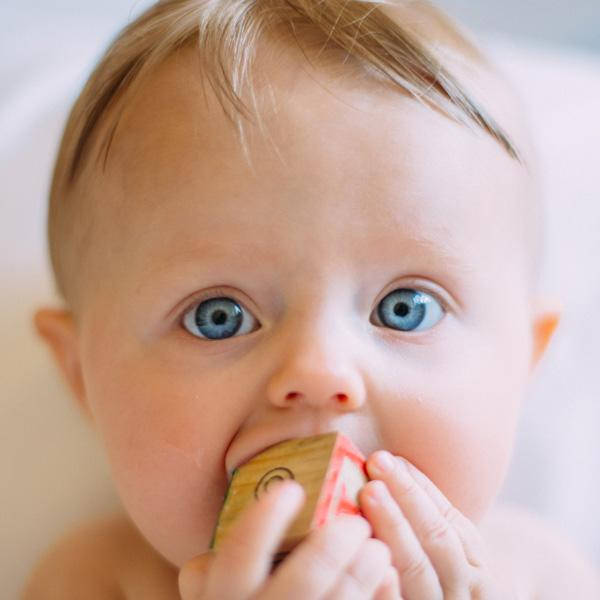Eyes: (362, 267, 464, 353), (157, 278, 271, 353)
